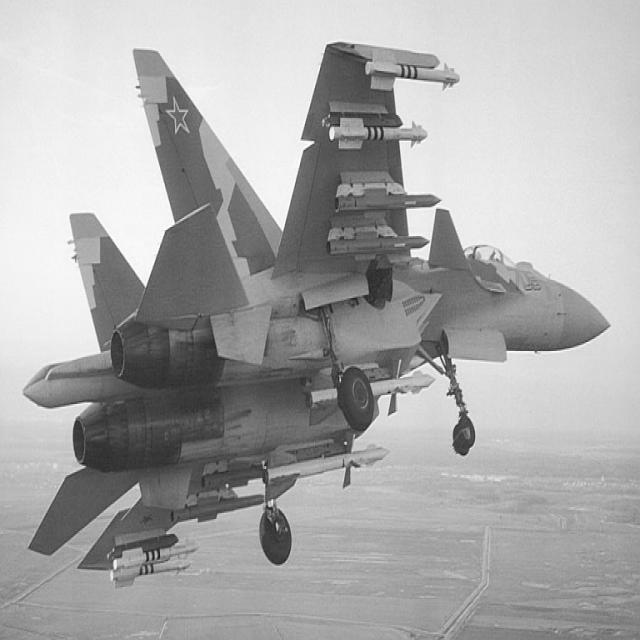Missile: (327, 108, 428, 158), (265, 446, 397, 484), (336, 185, 446, 222), (328, 230, 433, 266), (361, 57, 463, 91)
